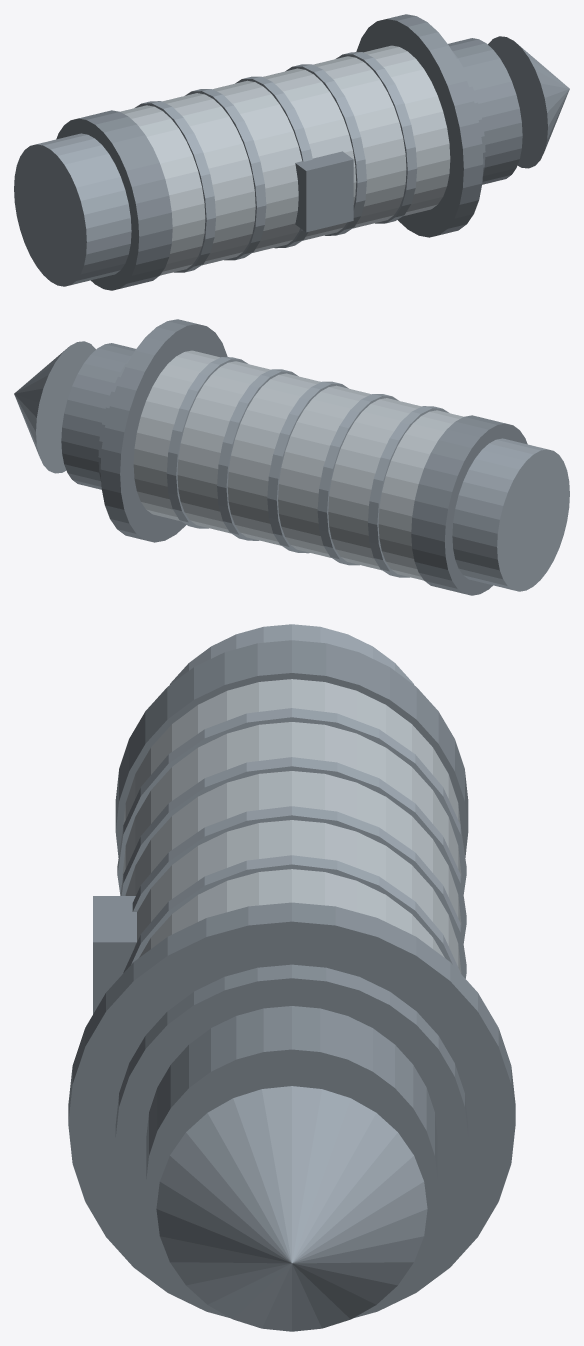
File: bomba_jp.glb
The picture shows the model from 3 angles, top to bottom: view 1: azimuth 30°, elevation 25°; view 2: azimuth 150°, elevation 25°; view 3: azimuth 270°, elevation 25°; orthographic projection. The views are drawn at different scales.
Parts seen in each view (by area): view 1: bomba_jp; view 2: bomba_jp; view 3: bomba_jp.
Part boxes in pixels (<box>): bomba_jp: <box>14,14,569,290</box>; bomba_jp: <box>14,319,569,595</box>; bomba_jp: <box>68,624,515,1331</box>.
Bounding box in the file's own units: 2.19 × 0.8184 × 0.8184.
